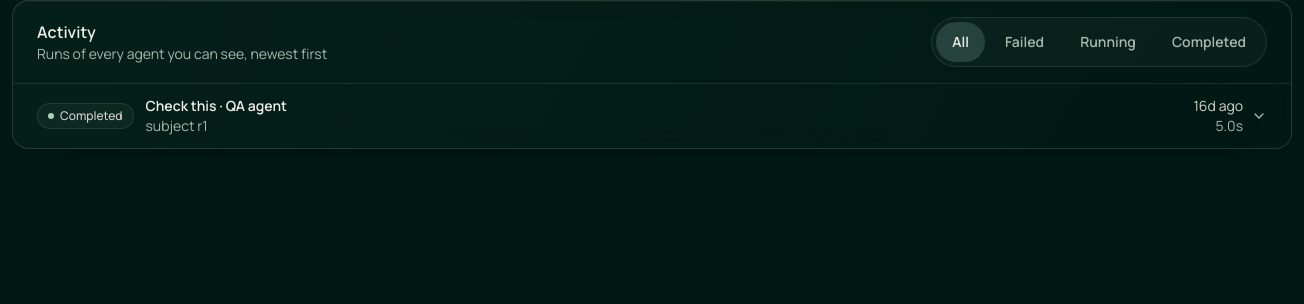
Scenario: activity feed › offers no steps link for a one-shot run, and says when nothing matches
Click the button "Completed Check this · QA agent subject r1 16d ago 5.0s".
click(85, 116)  # box [13,84,1291,148]
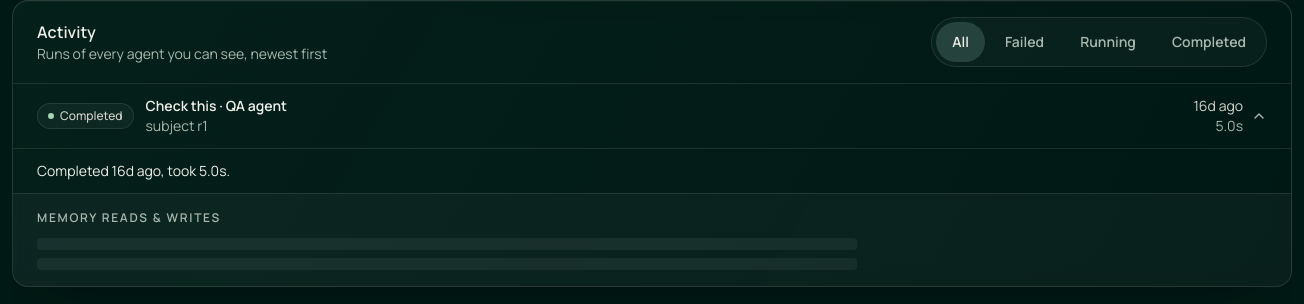
Click the button "Running".
click(1108, 42)  # box [1064,22,1152,62]
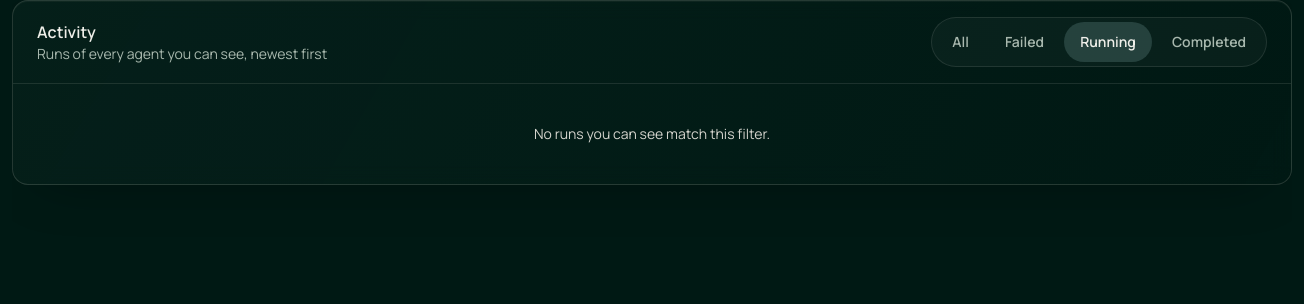
Expected: the text "No runs you can see match this filter." is shown, [534,124,770,143]
